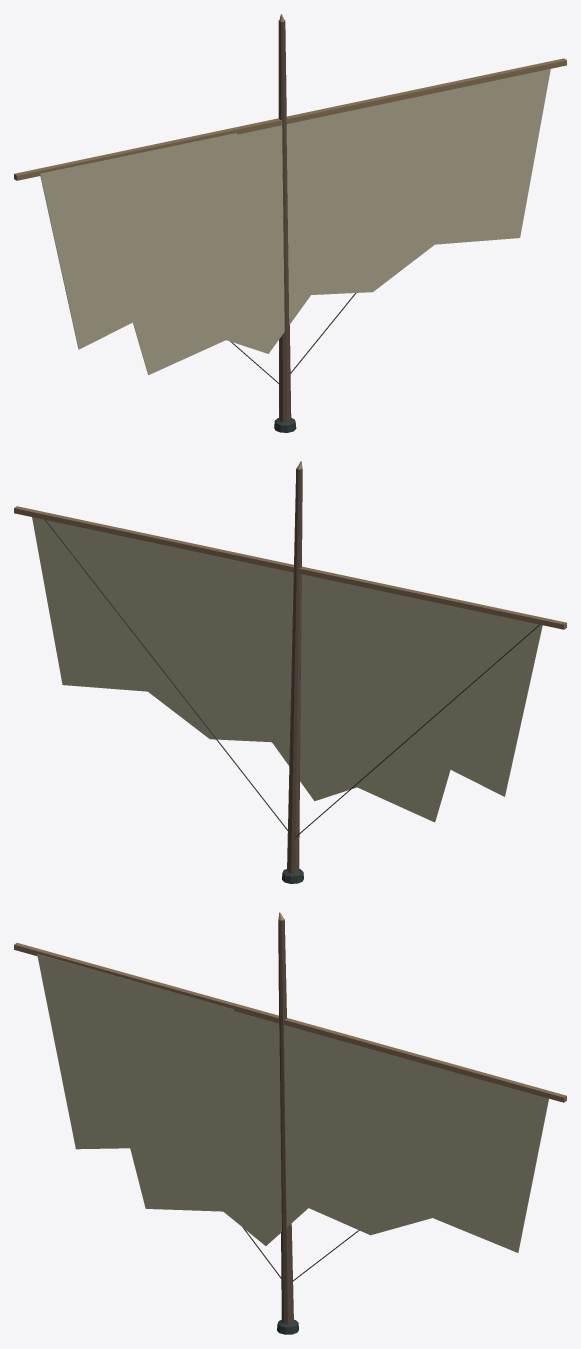
The model's file is S2_Mast_Tall.fbx.
The picture shows the model from 3 angles, top to bottom: view 1: azimuth 30°, elevation 25°; view 2: azimuth 150°, elevation 25°; view 3: azimuth 330°, elevation 25°; orthographic projection.
Parts seen in each view (by area): view 1: S2_Mast_Tall; view 2: S2_Mast_Tall; view 3: S2_Mast_Tall.
Part boxes in pixels (<box>): S2_Mast_Tall: <box>14,14,566,432</box>; S2_Mast_Tall: <box>14,461,566,883</box>; S2_Mast_Tall: <box>14,912,566,1334</box>.
Bounding box in the file's own units: 56.82 × 41.22 × 1.9.
